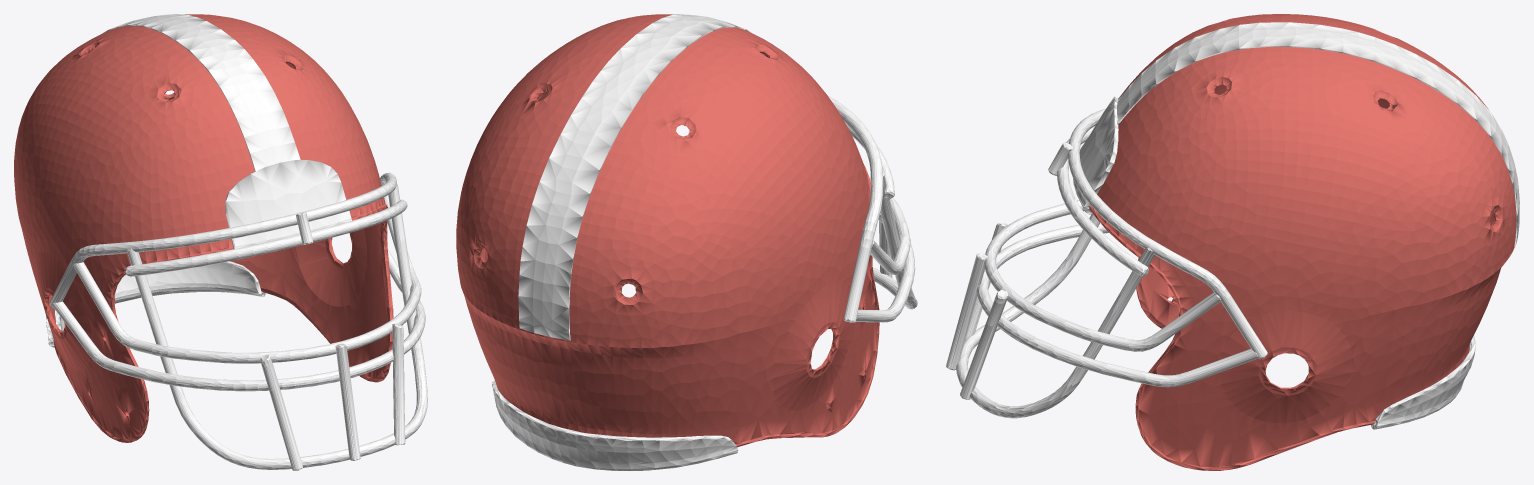
File: Kaciga2.fbx
3 views of the same model, side by side, from view 1: azimuth 30°, elevation 25°; view 2: azimuth 150°, elevation 25°; view 3: azimuth 270°, elevation 25° (orthographic). The views are drawn at different scales.
Parts seen in each view (by area): view 1: node-0.001; view 2: node-0.001; view 3: node-0.001.
Boxes of the visible parts, x1=… form: node-0.001: x1=14, y1=14, x2=427, y2=470; node-0.001: x1=456, y1=14, x2=917, y2=470; node-0.001: x1=946, y1=14, x2=1519, y2=470.
Size of the model in its own units: 45.5 by 46.86 by 65.32.
